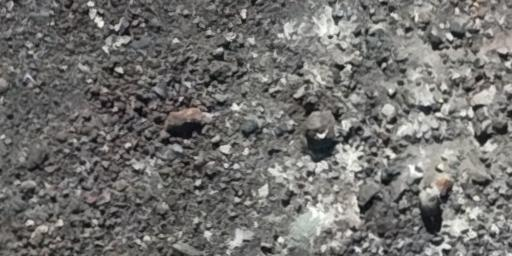skua: (410, 169, 458, 236)
